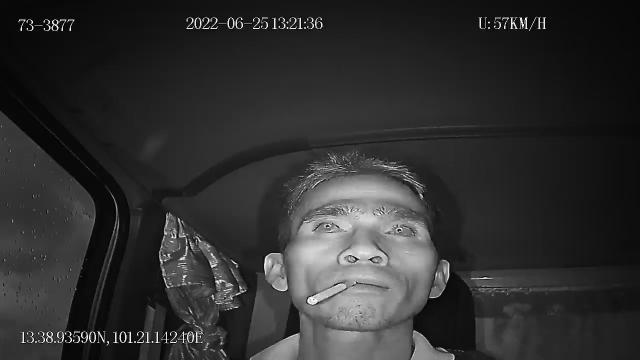SafeDriving: (377, 215, 422, 241), (308, 214, 349, 238)
Smoking: (306, 279, 358, 305)
